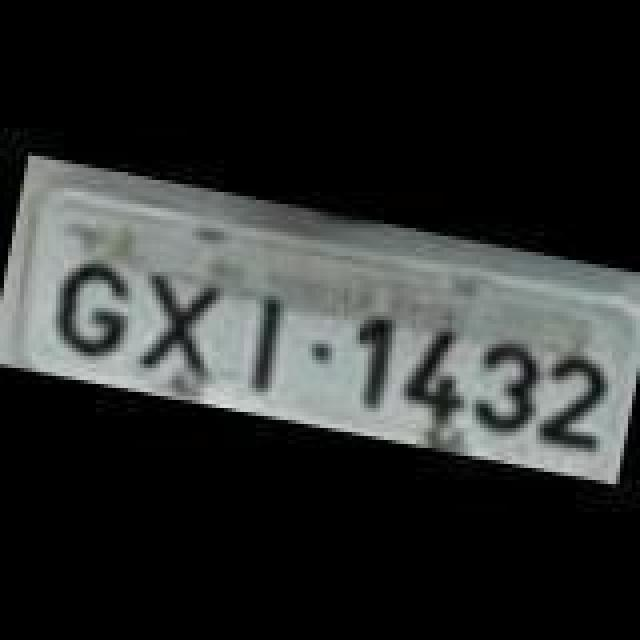1: (236, 290, 292, 398), (342, 310, 402, 410)
2: (530, 346, 614, 454)
3: (464, 330, 544, 438)
4: (400, 320, 480, 432)
G: (46, 254, 138, 362)
X: (126, 266, 226, 382)
